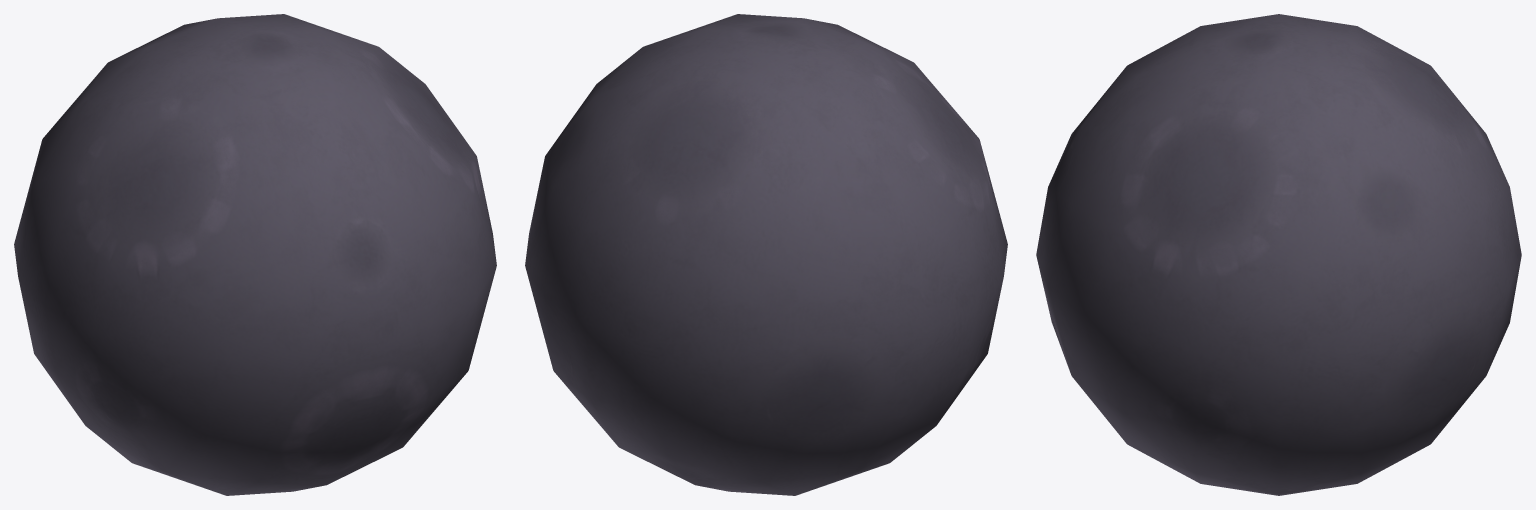
The model's file is Meteor.FBX.
3 views of the same model, side by side, from view 1: azimuth 30°, elevation 25°; view 2: azimuth 150°, elevation 25°; view 3: azimuth 270°, elevation 25° (orthographic).
Parts seen in each view (by area): view 1: Meteor; view 2: Meteor; view 3: Meteor.
Part boxes in pixels (<box>): Meteor: <box>14,14,496,495</box>; Meteor: <box>525,14,1007,495</box>; Meteor: <box>1036,14,1521,495</box>.
Bounding box in the file's own units: 89.56 × 89.56 × 89.56.
